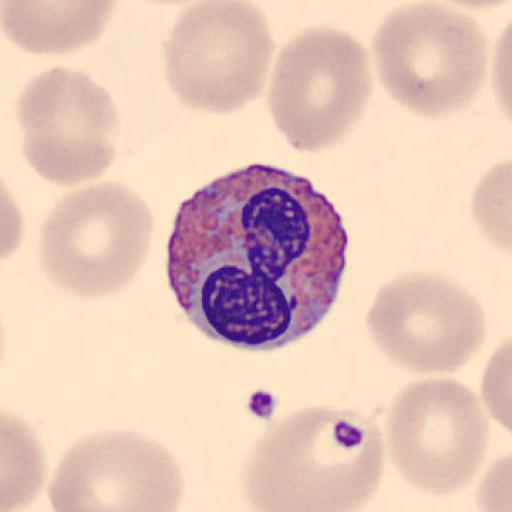RBC: (240, 402, 389, 512), (370, 0, 490, 120), (36, 180, 156, 300), (267, 23, 374, 156), (13, 63, 121, 189), (160, 0, 274, 117), (384, 376, 491, 498), (365, 269, 487, 376), (46, 426, 186, 512), (2, 0, 116, 55), (476, 340, 512, 495), (2, 406, 46, 512), (471, 156, 512, 256), (479, 336, 512, 438), (490, 19, 512, 122), (476, 450, 512, 512), (1, 182, 25, 267), (421, 0, 512, 11)
WBC: (164, 161, 349, 354)
